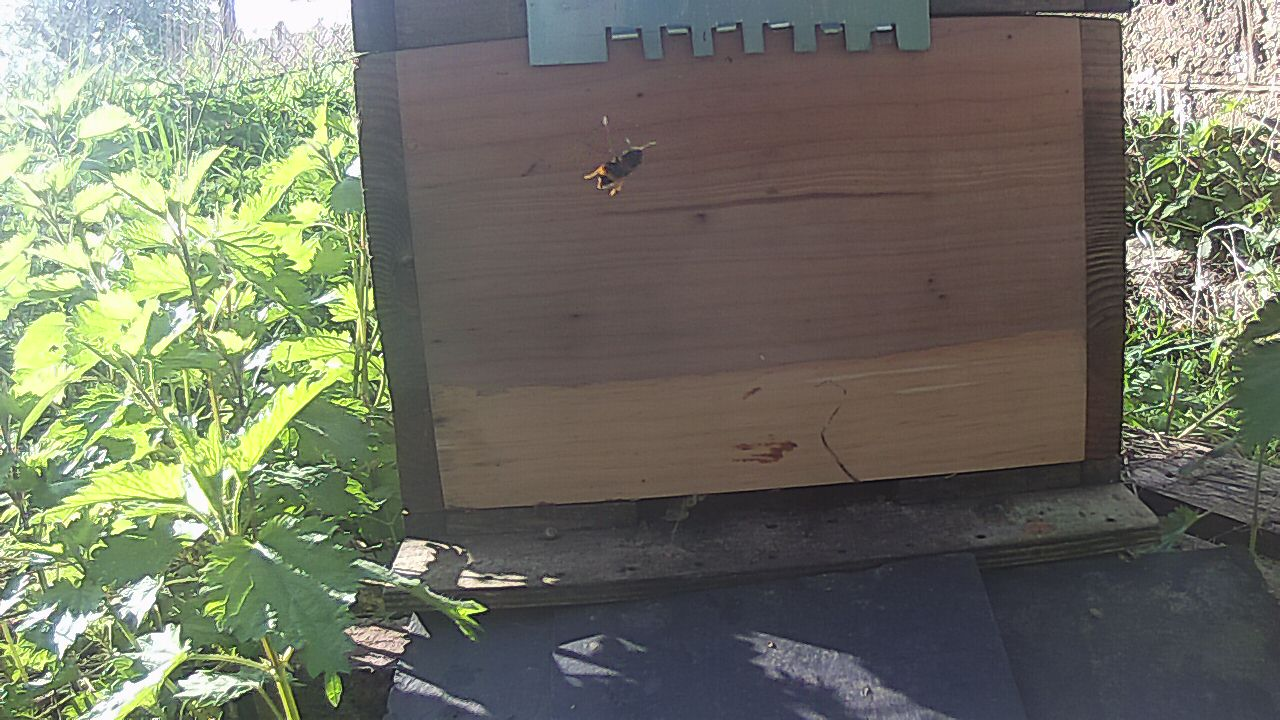bee: (598, 151, 655, 190)
